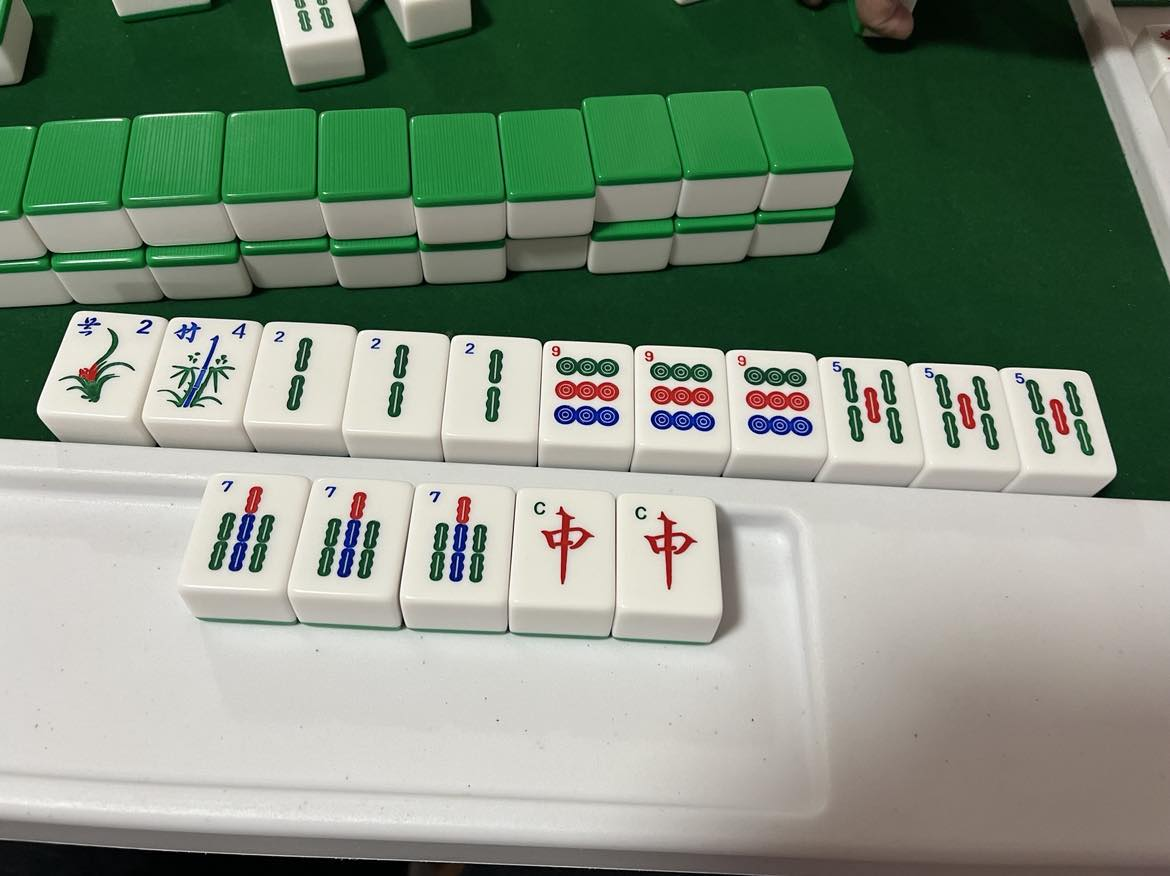bamboo-five: (1013, 370, 1099, 463), (920, 364, 1002, 460), (825, 361, 908, 451)
bamboo-seven: (203, 474, 281, 581), (310, 482, 388, 588), (421, 487, 496, 592)
bamboo-two: (360, 331, 425, 429), (266, 324, 331, 422), (459, 339, 517, 433)
circle-nine: (641, 349, 725, 441), (734, 352, 817, 445), (545, 344, 624, 432)
flower-blue_four: (158, 319, 250, 422)
flower-blue_two: (55, 313, 157, 413)
honor-red_dragon: (521, 496, 602, 597), (627, 499, 701, 599)
